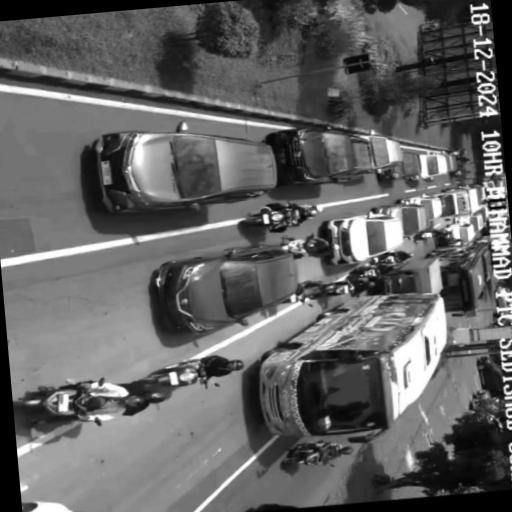bus: (259, 293, 446, 443), (429, 242, 491, 316)
car: (94, 122, 275, 212), (156, 243, 297, 334), (266, 126, 371, 186), (326, 213, 403, 265), (372, 203, 427, 239), (357, 130, 401, 173), (378, 151, 420, 180), (397, 196, 441, 221), (476, 356, 502, 397), (408, 153, 446, 181), (471, 409, 502, 432), (443, 223, 475, 245), (455, 213, 482, 232), (470, 399, 499, 416), (460, 184, 484, 204), (473, 391, 502, 407), (22, 502, 70, 511), (494, 285, 511, 308), (251, 503, 296, 511), (443, 154, 457, 173), (474, 204, 488, 222), (473, 391, 490, 400)
motorcycle: (13, 385, 91, 417), (140, 361, 207, 388), (280, 441, 333, 466), (240, 208, 298, 228), (280, 235, 313, 258), (281, 284, 312, 307), (326, 280, 354, 296), (350, 267, 377, 278), (376, 253, 396, 264), (413, 232, 432, 241), (450, 170, 462, 178)
truck: (371, 259, 441, 294), (432, 189, 478, 218)
